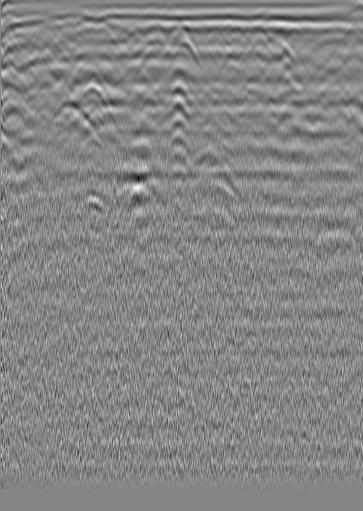가스: (110, 182, 155, 213)
상수: (298, 50, 318, 70)
오수: (34, 39, 54, 59)
우수: (175, 37, 195, 57)
